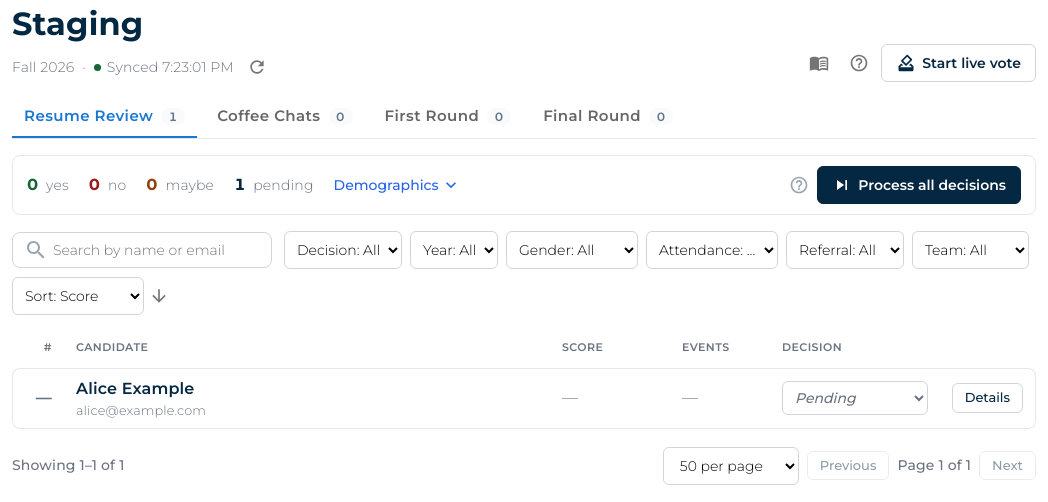
Test case: Staging sync › keeps the last successful snapshot on screen when a poll fails
This screenshot has width=1048, height=502.
expect the text "Alice Example" is shown: met, box [76, 376, 206, 400]
expect the text "Synced 7:23:01 PM" is shown: met, box [94, 56, 234, 78]
Click the button named "Refresh staging data".
click(257, 67)  # box [242, 52, 272, 82]
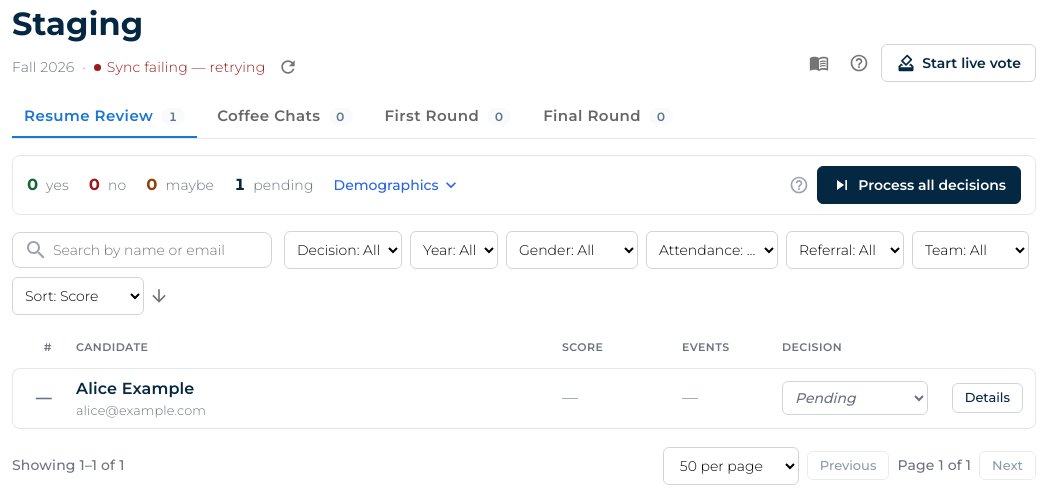
expect the text "Alice Example" is shown: met, box [76, 376, 206, 400]
expect the text "Sync failing — retrying" is shown: met, box [94, 56, 265, 78]
